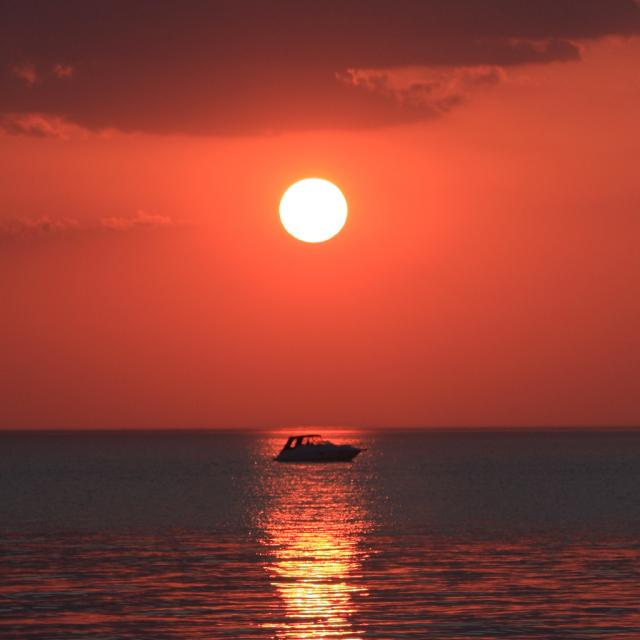no_fire: (77, 88, 528, 334)
